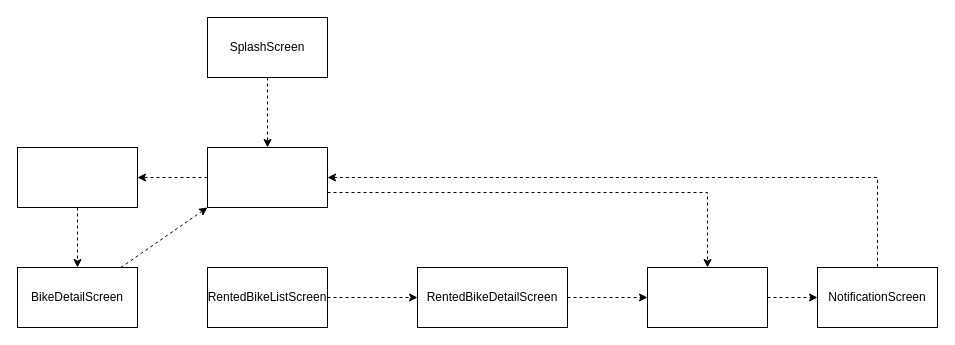
The diagram is 955 pixels wide and 345 high, and some of its shapes have lost their labels. Each missing label, with the centre of its shape:
CreditCardInfoForm: (x=707, y=297)
DockDetailScreen: (x=77, y=177)
HomeScreen: (x=267, y=177)
